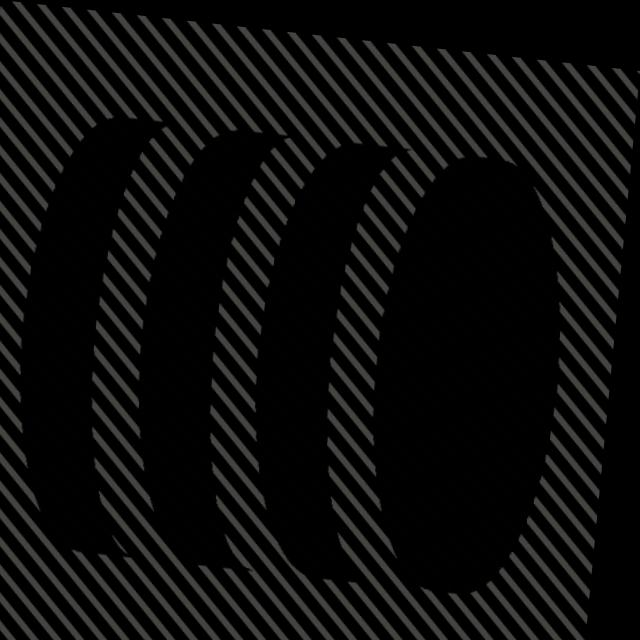Database: (0, 40, 616, 640)
